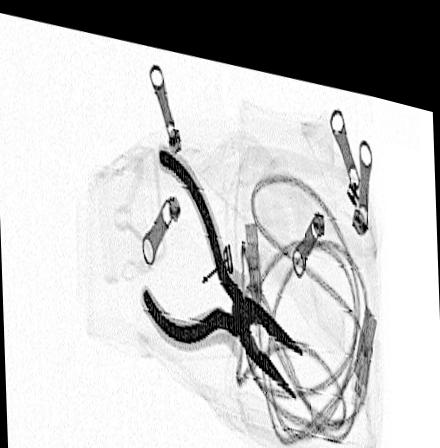Pliers: (140, 130, 303, 386)
